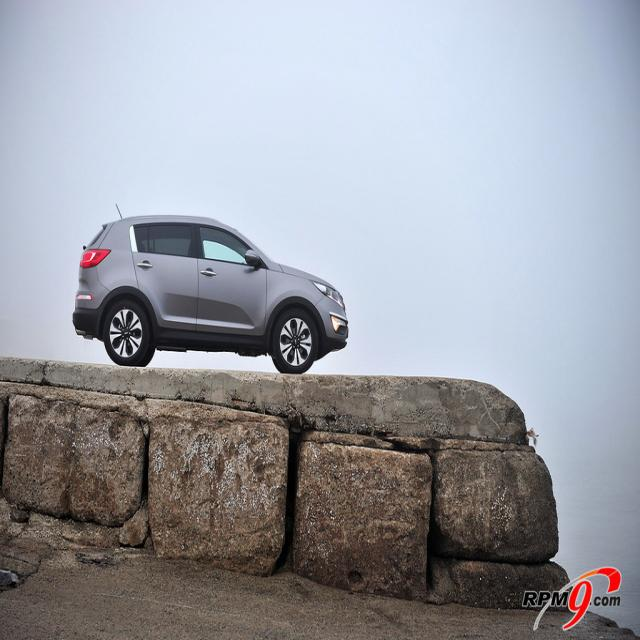car: (75, 203, 357, 374)
